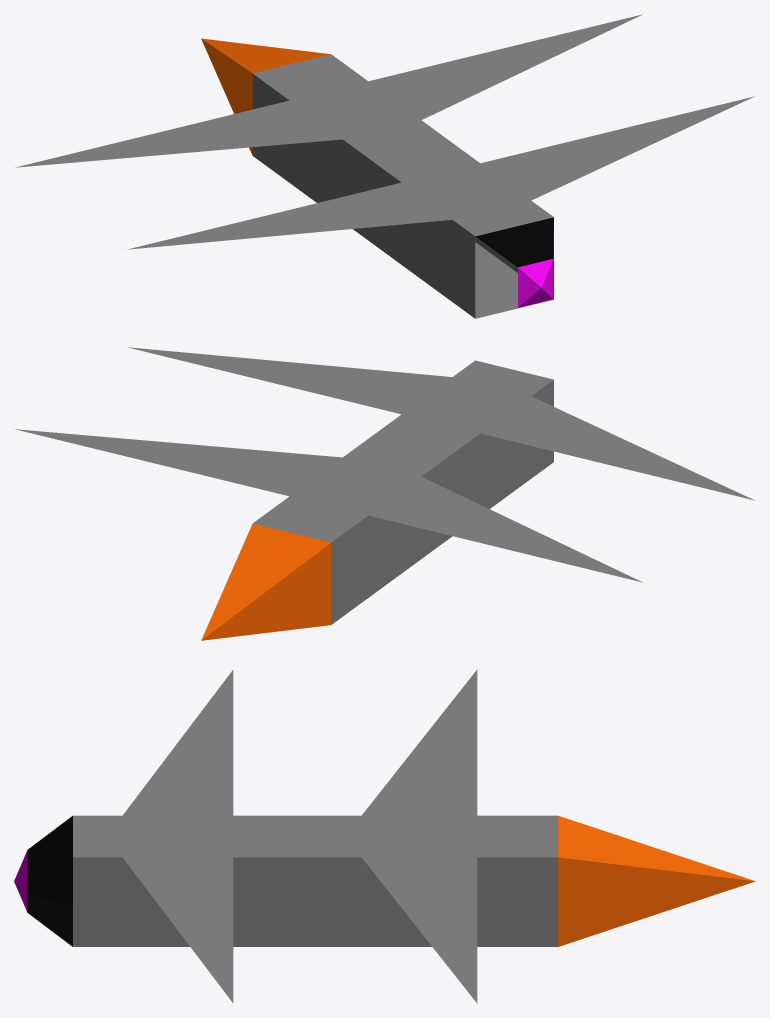
File: drone.obj
The picture shows the model from 3 angles, top to bottom: view 1: azimuth 30°, elevation 25°; view 2: azimuth 150°, elevation 25°; view 3: azimuth 270°, elevation 25°; orthographic projection. The views are drawn at different scales.
Visible parts, largest first — view 1: Cube.001; view 2: Cube.001; view 3: Cube.001.
Part boxes in pixels (x1=…): Cube.001: x1=15, y1=14, x2=754, y2=318; Cube.001: x1=15, y1=347, x2=754, y2=640; Cube.001: x1=14, y1=669, x2=755, y2=1003.
Size of the model in its own units: 8 by 1 by 7.5.
